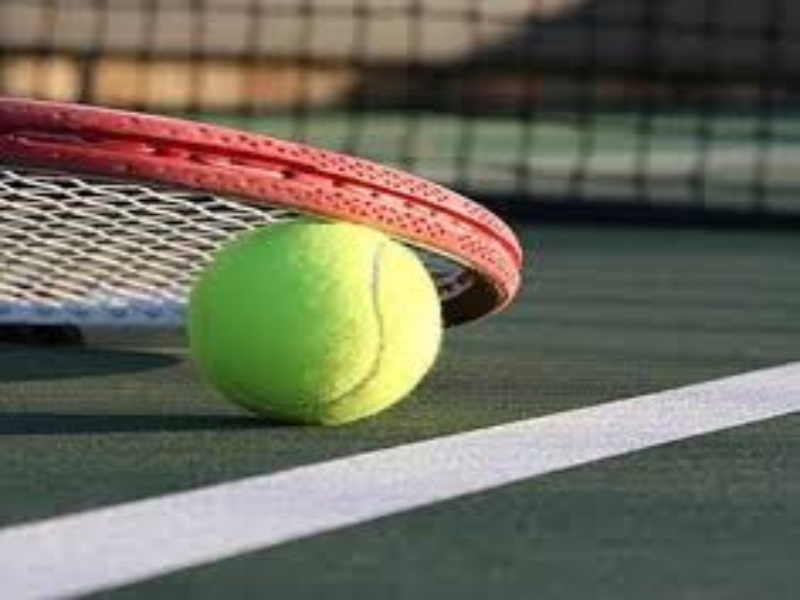tennis ball: (185, 216, 454, 426)
